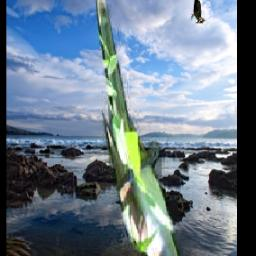Cuckoo: (96, 0, 192, 256)
Woodpecker: (191, 0, 206, 24)
